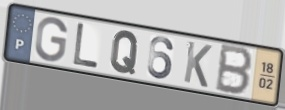6: (146, 36, 175, 81)
B: (213, 42, 255, 98)
G: (33, 16, 70, 64)
K: (182, 39, 214, 90)
L: (71, 21, 101, 71)
Q: (109, 29, 141, 77)
